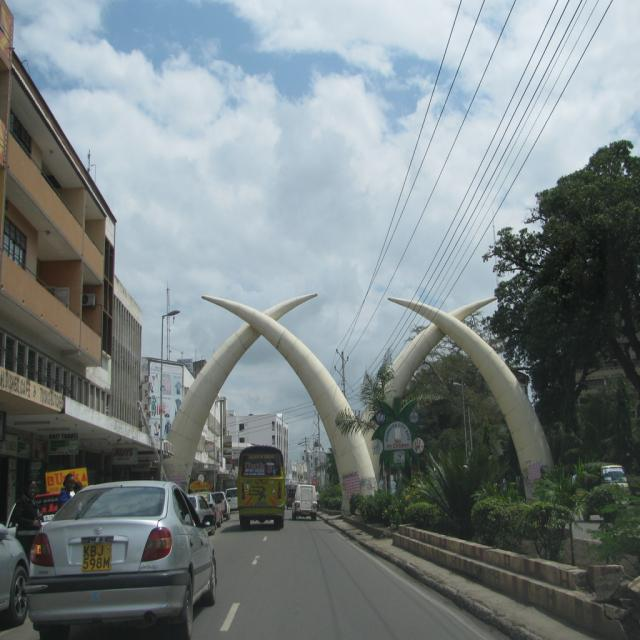car: (4, 475, 219, 630)
